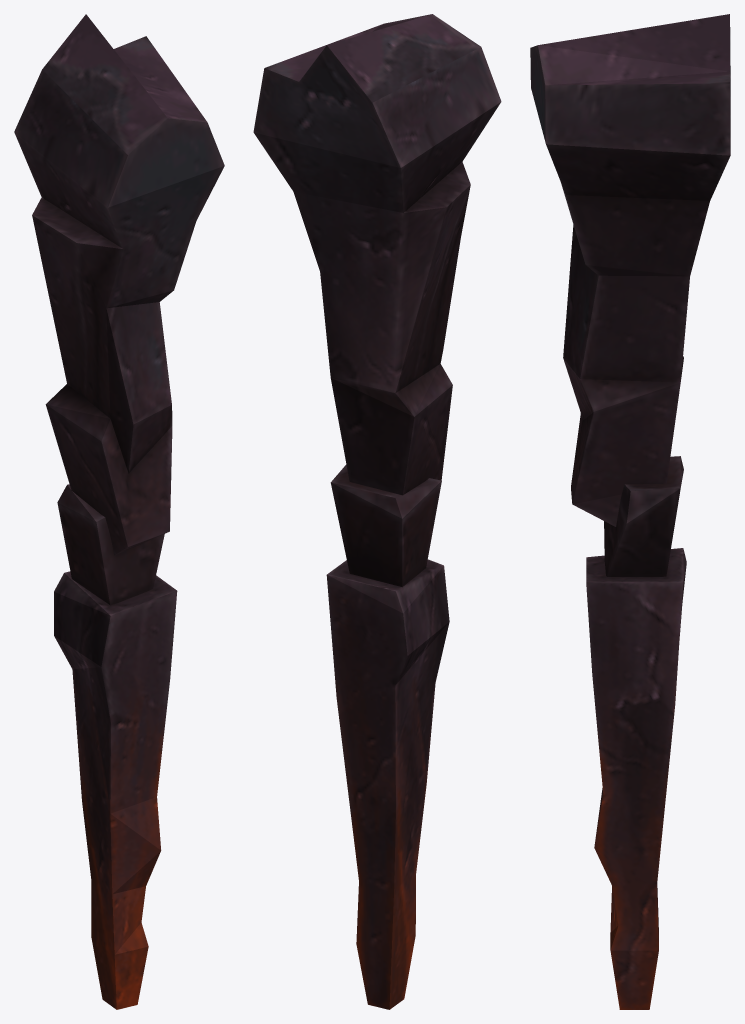
The model's file is huoguanshizhu05.FBX.
3 views of the same model, side by side, from view 1: azimuth 30°, elevation 25°; view 2: azimuth 150°, elevation 25°; view 3: azimuth 270°, elevation 25° (orthographic). The views are drawn at different scales.
Parts seen in each view (by area): view 1: huoguanshizhu5; view 2: huoguanshizhu5; view 3: huoguanshizhu5.
Part boxes in pixels (left/top/right/bottom): huoguanshizhu5: left=14, top=14, right=224, bottom=1009; huoguanshizhu5: left=253, top=14, right=501, bottom=1009; huoguanshizhu5: left=530, top=14, right=730, bottom=1009.
Bounding box in the file's own units: 197 × 210 × 1153.
